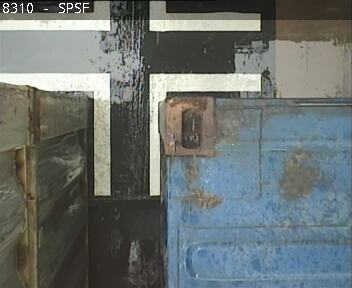groundmarker_1: (1, 70, 257, 196), (1, 1, 261, 35)
